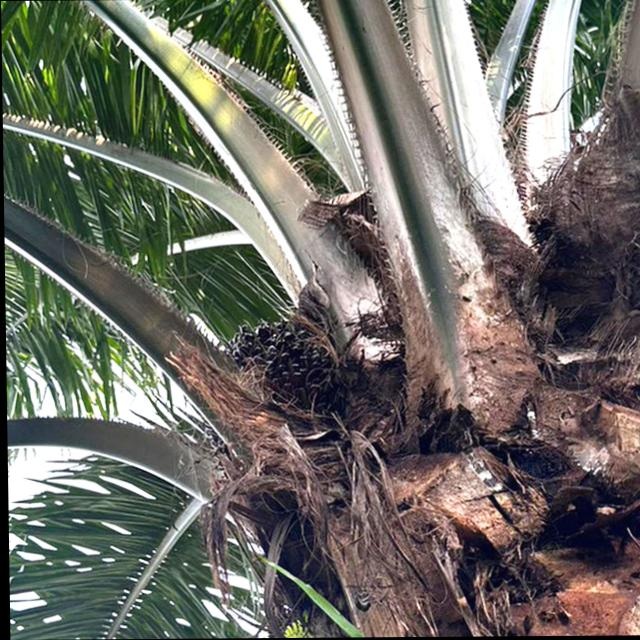ripe: (213, 300, 370, 425)
